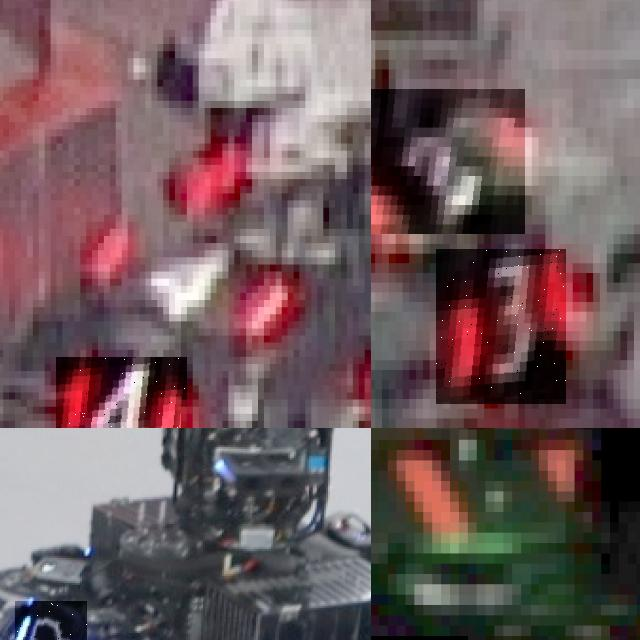Bs: (15, 601, 87, 640)
R3: (371, 88, 525, 234), (436, 249, 566, 404)
R4: (56, 357, 186, 428)
